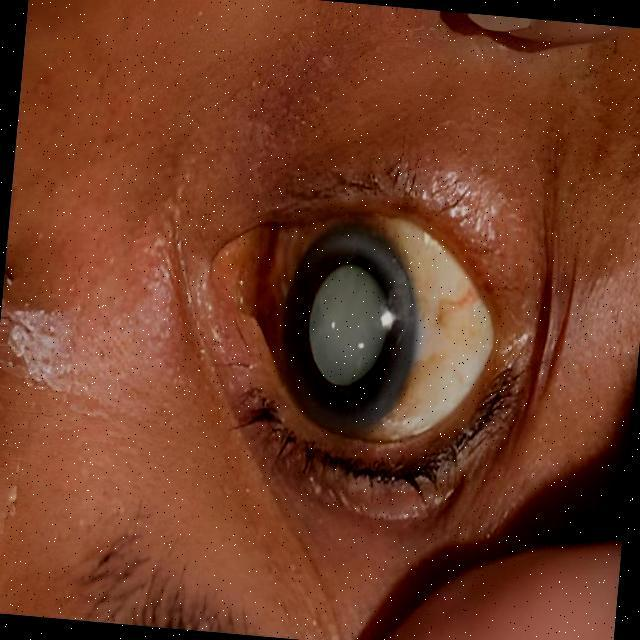Cataract: (257, 220, 426, 443)
